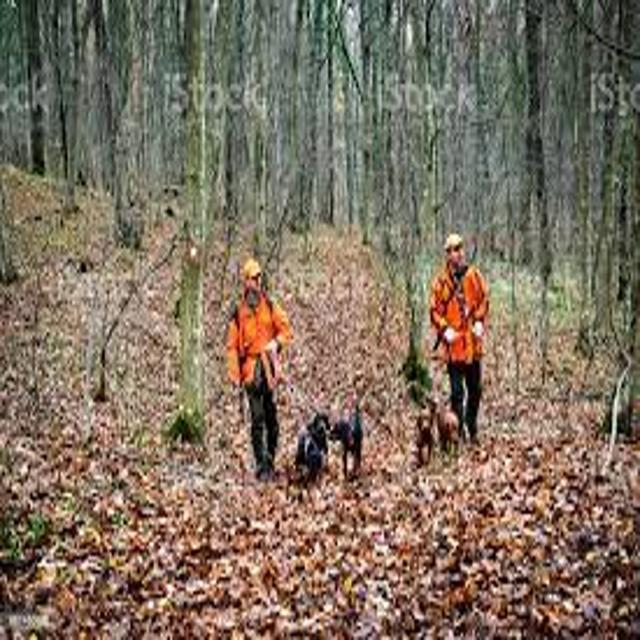dog: (321, 382, 378, 497), (282, 393, 340, 502), (396, 389, 443, 482), (429, 384, 477, 473)
poacher: (195, 229, 312, 497), (407, 211, 509, 476)
